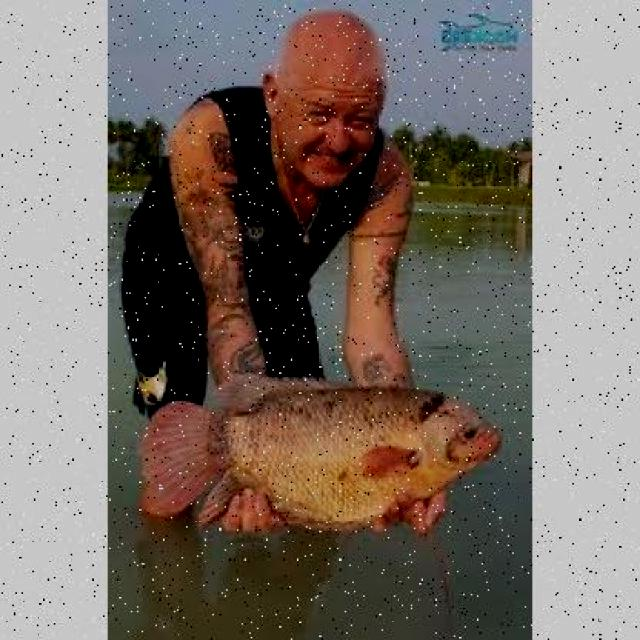gurame: (138, 376, 514, 535)
